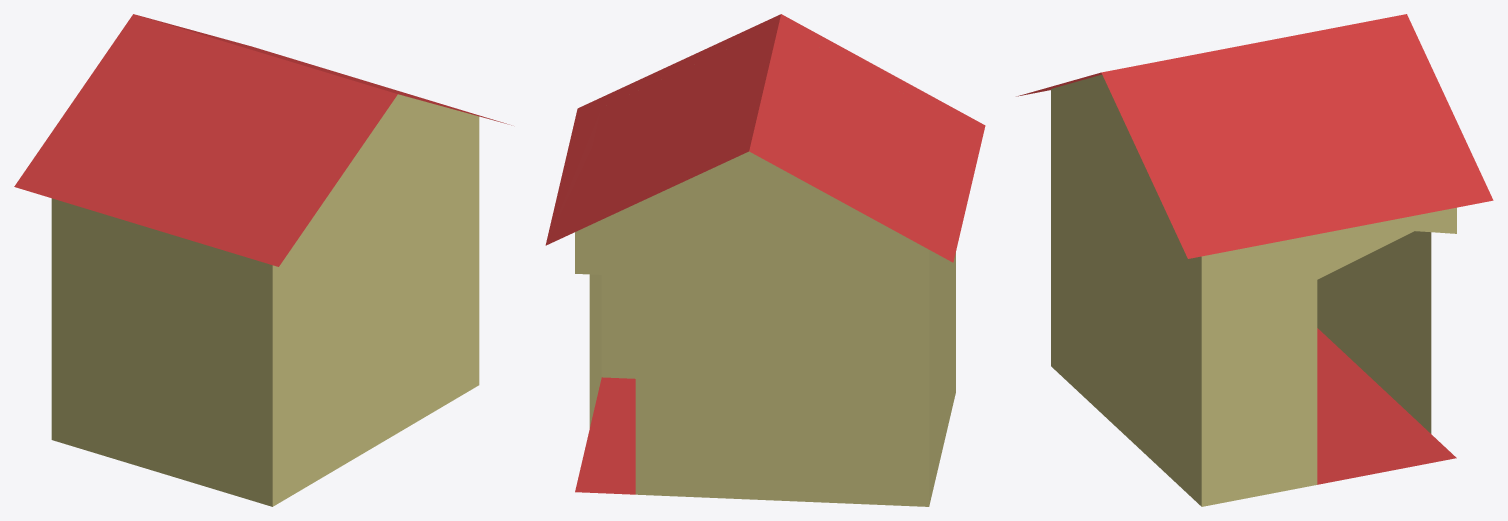
3 views of the same model, side by side, from view 1: azimuth 30°, elevation 25°; view 2: azimuth 150°, elevation 25°; view 3: azimuth 270°, elevation 25° (orthographic). The views are drawn at different scales.
Bounding box in the file's own units: 14.13 × 12.98 × 11.03.
